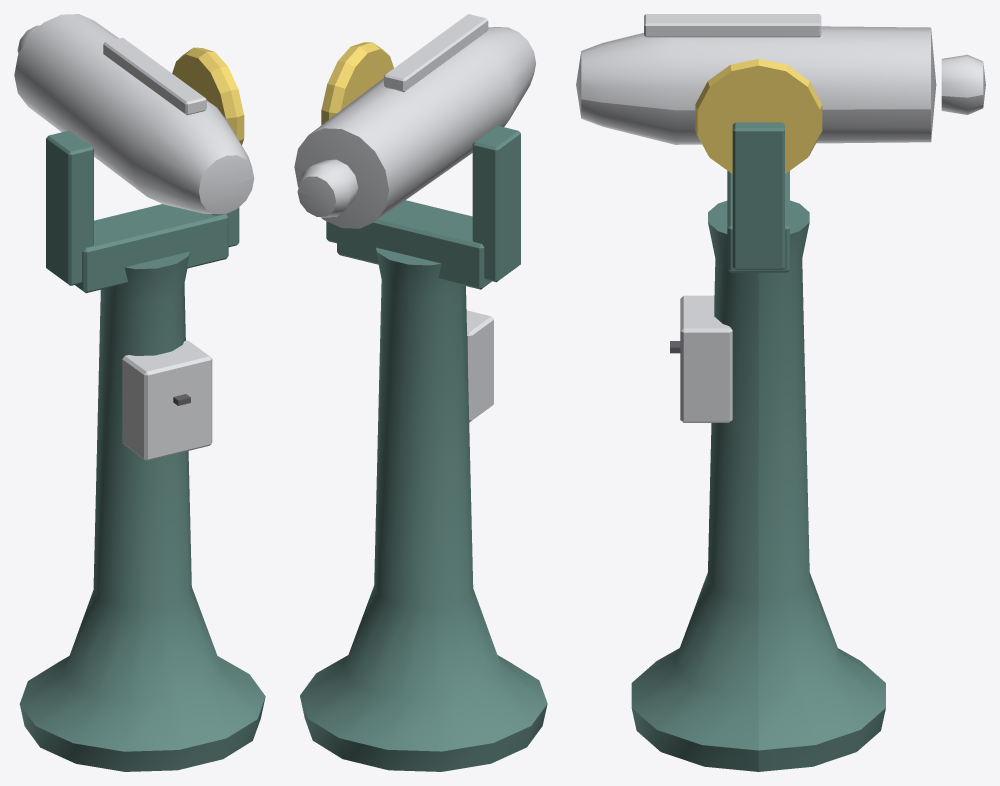
File: amusement-arcade-and-seaside-pier-pier-telescope-15b3c7e5__35399.glb
The picture shows the model from 3 angles, left to right: view 1: azimuth 30°, elevation 25°; view 2: azimuth 150°, elevation 25°; view 3: azimuth 270°, elevation 25°; orthographic projection. The views are drawn at different scales.
Parts seen in each view (by area): view 1: pier-telescope, telescope-barrel; view 2: pier-telescope, telescope-barrel; view 3: pier-telescope, telescope-barrel.
Part boxes in pixels (bbox=[...]): pier-telescope: bbox=[19, 47, 265, 771]; telescope-barrel: bbox=[14, 14, 254, 214]; pier-telescope: bbox=[300, 42, 547, 771]; telescope-barrel: bbox=[294, 14, 535, 228]; pier-telescope: bbox=[631, 59, 885, 771]; telescope-barrel: bbox=[576, 14, 985, 144].
Size of the model in its own units: 0.4999 by 1.48 by 0.785.
